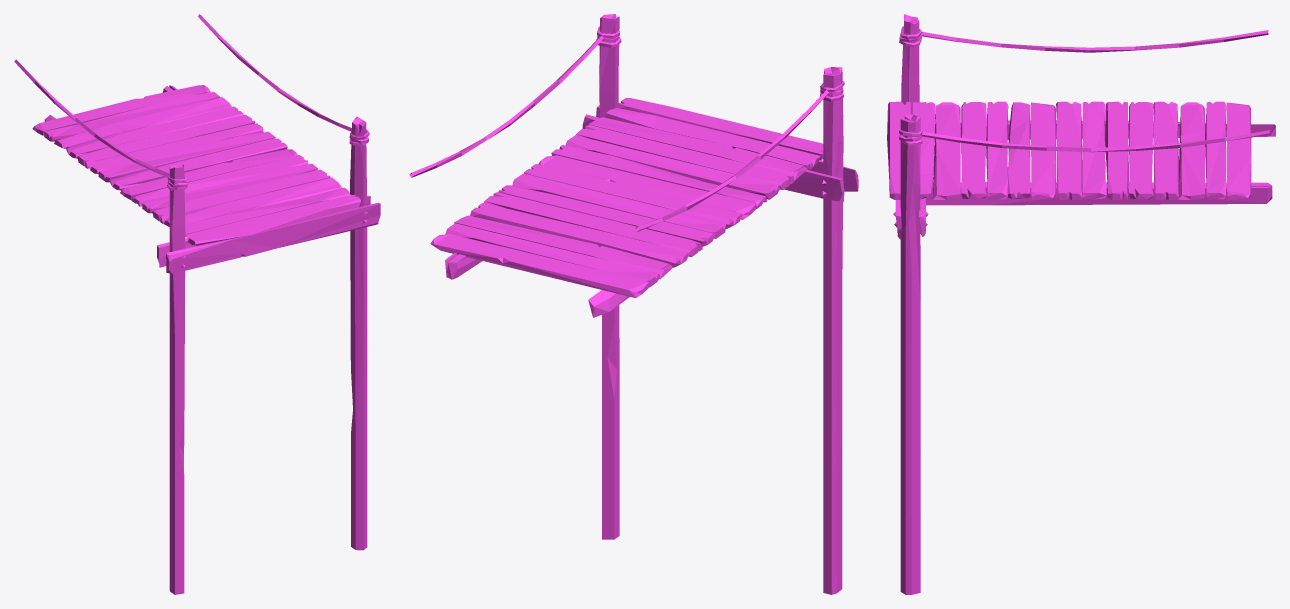
The model's file is SM_Pier_Rope_Long_Fantasy.fbx.
3 renders of one model, left to right at view 1: azimuth 30°, elevation 25°; view 2: azimuth 150°, elevation 25°; view 3: azimuth 270°, elevation 25°, orthographic. The views are drawn at different scales.
Visible parts, largest first — view 1: SM_Pier_Rope_Long_Fantasy; view 2: SM_Pier_Rope_Long_Fantasy; view 3: SM_Pier_Rope_Long_Fantasy.
Part boxes in pixels (x1,y1,x2,y2): SM_Pier_Rope_Long_Fantasy: [14, 14, 380, 594]; SM_Pier_Rope_Long_Fantasy: [409, 14, 858, 594]; SM_Pier_Rope_Long_Fantasy: [887, 14, 1275, 594].
Size of the model in its own units: 3.8 by 7.23 by 5.36.
